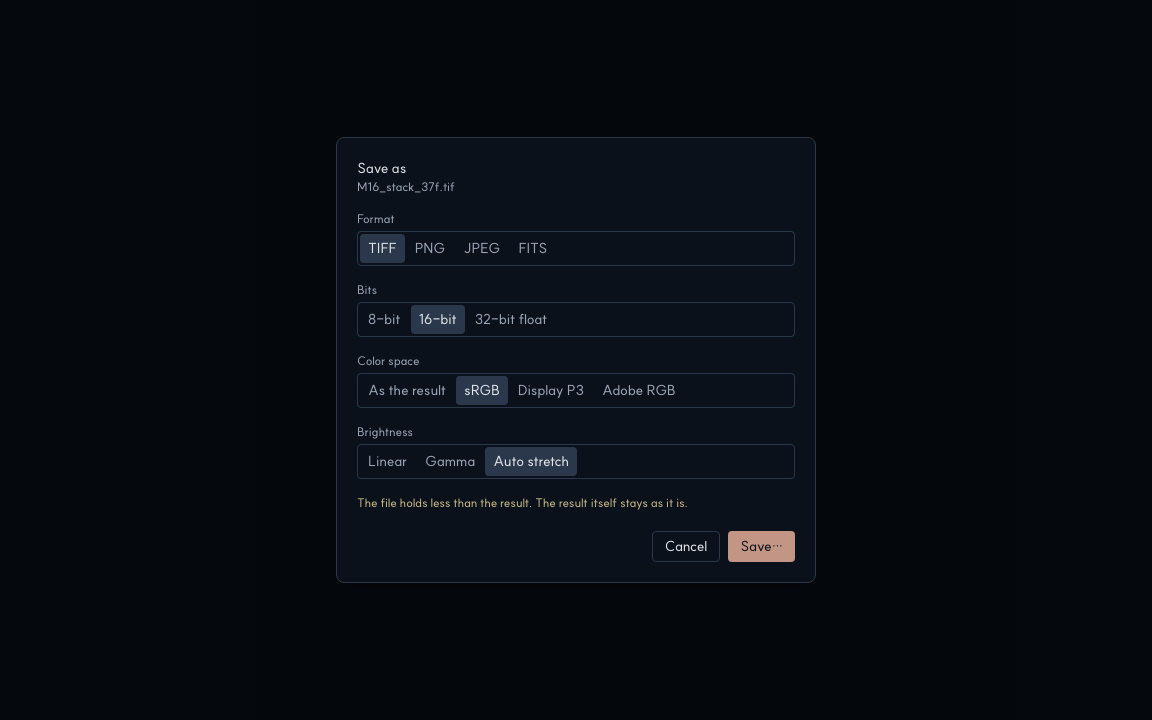
Test: the save-as dialog › shows what went wrong and stays
Click the button "Save…" at point(762, 546), box [728,531,795,562]
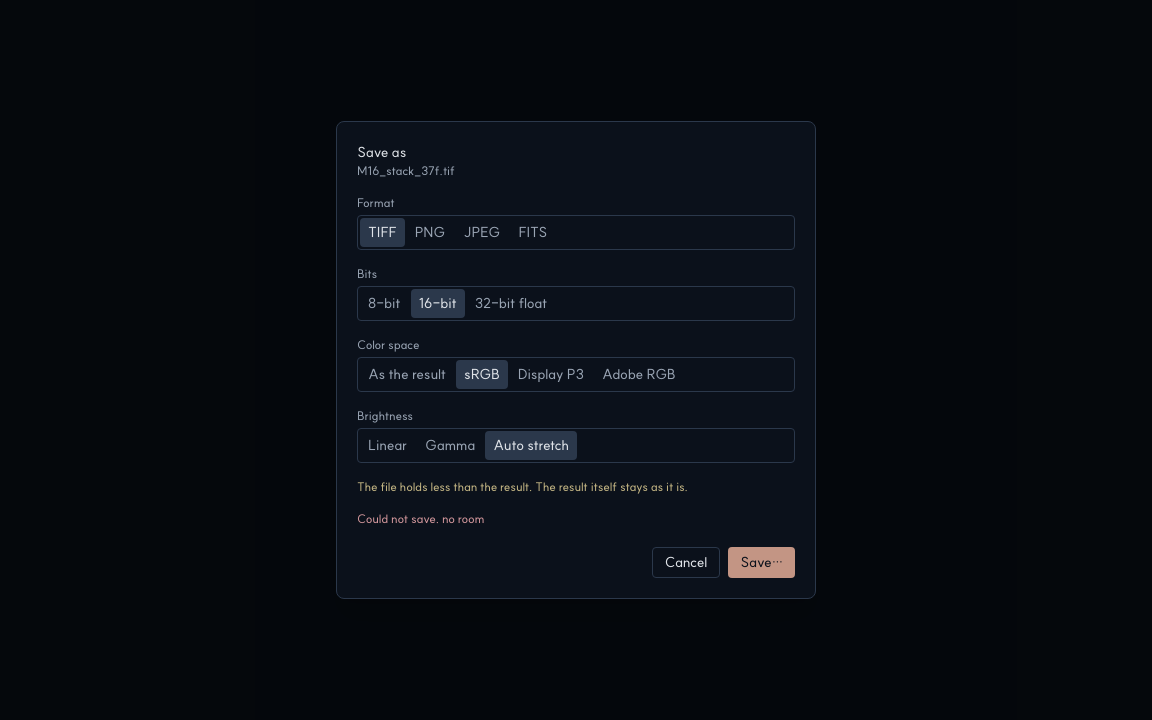
Expected: the dialog is shown, [336,121,816,599]
Expected: the message shows "no room", [357,511,484,526]
